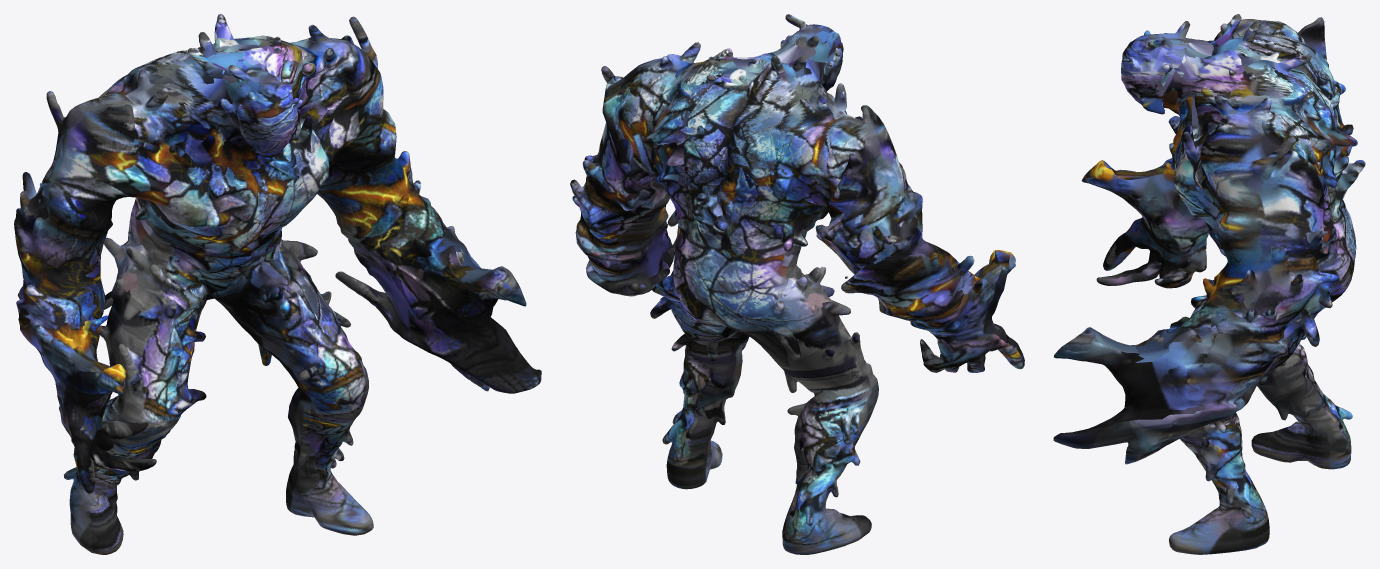
Rendered from orphic-shattered-shard-overview-v1.glb.
3 views of the same model, side by side, from view 1: azimuth 30°, elevation 25°; view 2: azimuth 150°, elevation 25°; view 3: azimuth 270°, elevation 25° (orthographic). The views are drawn at different scales.
Parts seen in each view (by area): view 1: orphic-shattered-shard; view 2: orphic-shattered-shard; view 3: orphic-shattered-shard.
Boxes of the visible parts, x1,y1,x2,y2 form: orphic-shattered-shard: [14, 14, 541, 554]; orphic-shattered-shard: [570, 14, 1024, 554]; orphic-shattered-shard: [1053, 14, 1365, 554].
Size of the model in its own units: 1.81 by 1.98 by 1.18.
1 material, 1 textured.
